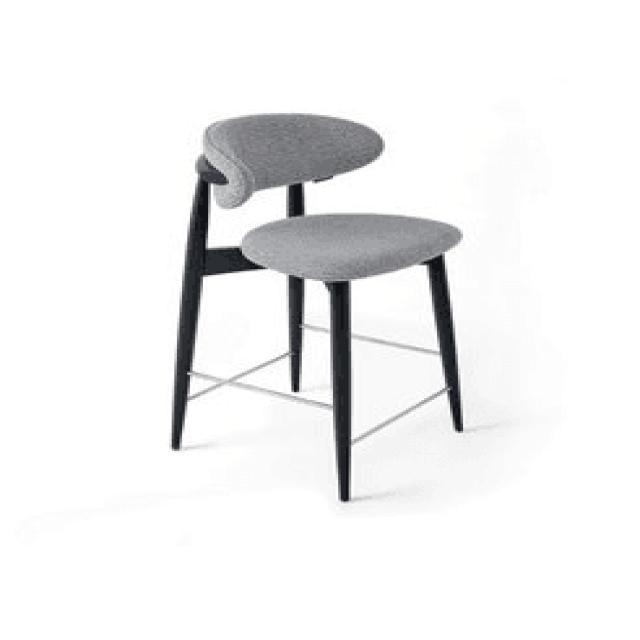chair: (168, 108, 470, 506), (200, 114, 473, 280)
